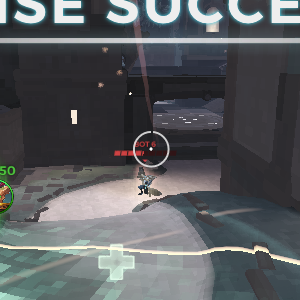model: (132, 163, 163, 204)
